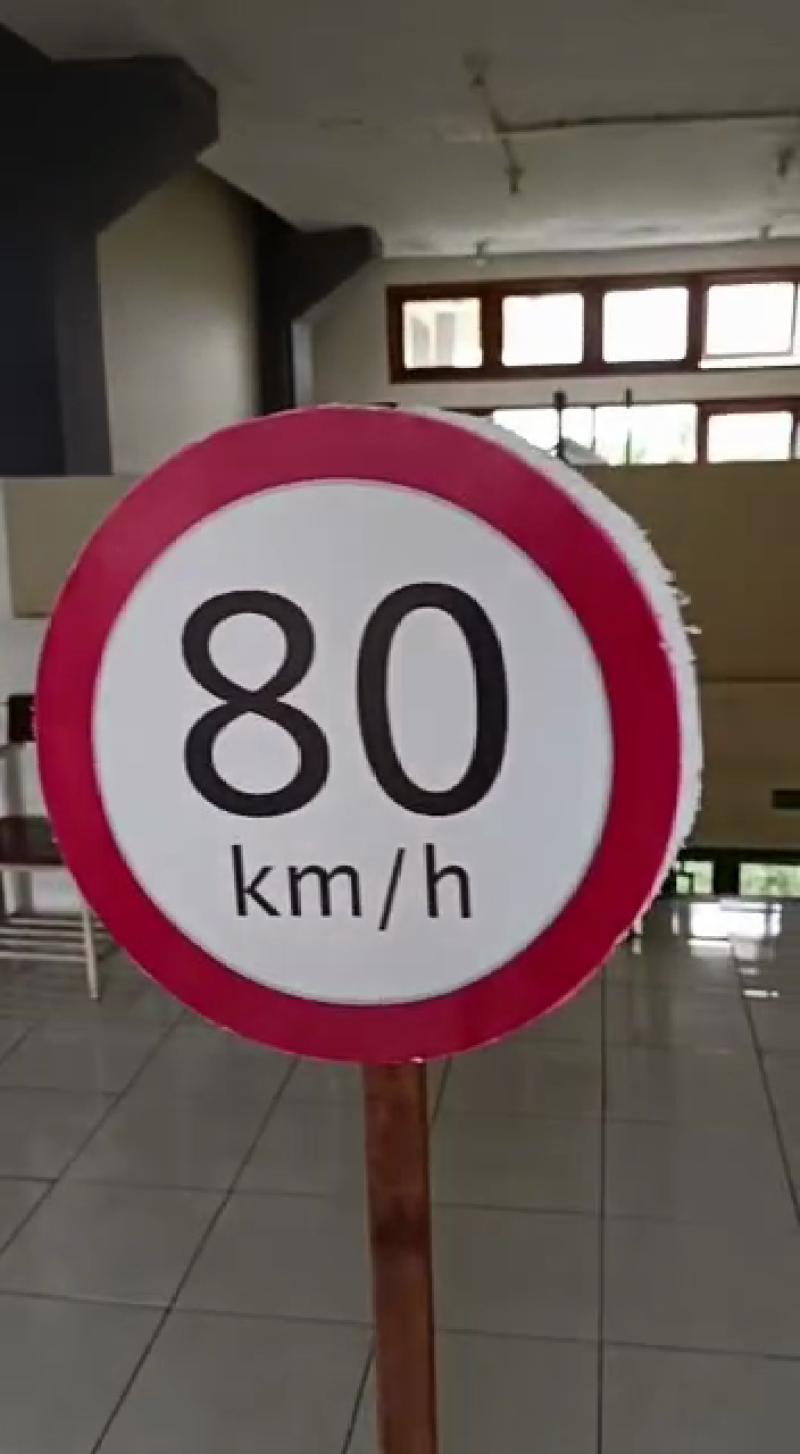batas maksimal 80kmperjam: (23, 390, 689, 1086)
